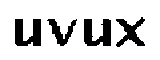u: (8, 15, 42, 52), (80, 16, 112, 49)
v: (44, 16, 77, 48)
x: (115, 15, 147, 51)
